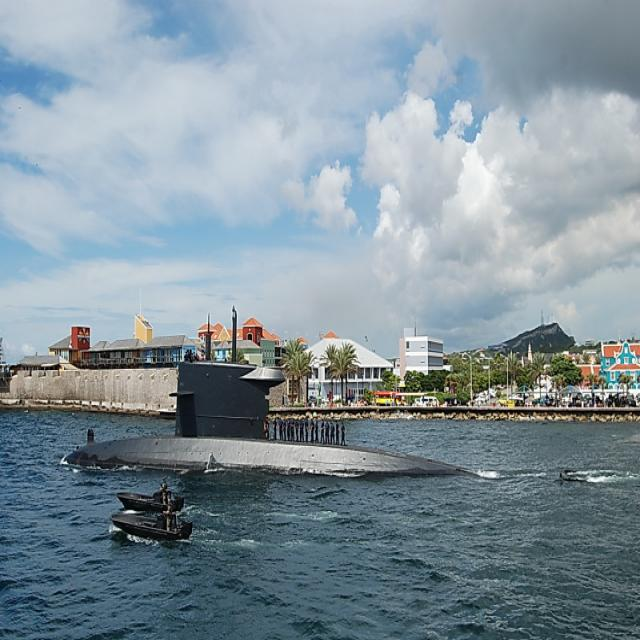submarine: (59, 323, 485, 481)
